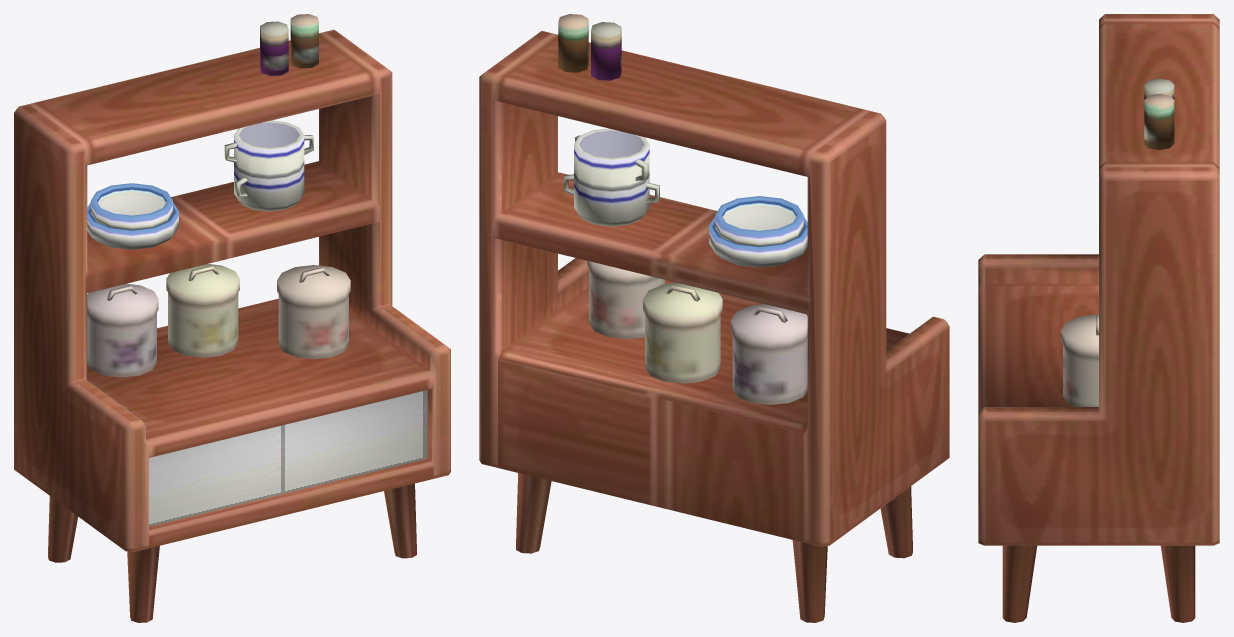
File: rmk_scd_shelf uv fix.dae
The picture shows the model from 3 angles, left to right: view 1: azimuth 30°, elevation 25°; view 2: azimuth 150°, elevation 25°; view 3: azimuth 270°, elevation 25°; orthographic projection. The views are drawn at different scales.
Parts seen in each view (by area): view 1: vsn_mesh_0_, vsn_mesh_1_.1; view 2: vsn_mesh_0_; view 3: vsn_mesh_0_.
Part boxes in pixels (x1=…): vsn_mesh_0_: x1=14, y1=14, x2=450, y2=622; vsn_mesh_1_.1: x1=149, y1=390, x2=427, y2=526; vsn_mesh_0_: x1=479, y1=14, x2=949, y2=622; vsn_mesh_0_: x1=978, y1=14, x2=1219, y2=622.
Bounding box in the file's own units: 32 × 46 × 20.
3 materials, 3 textured.
